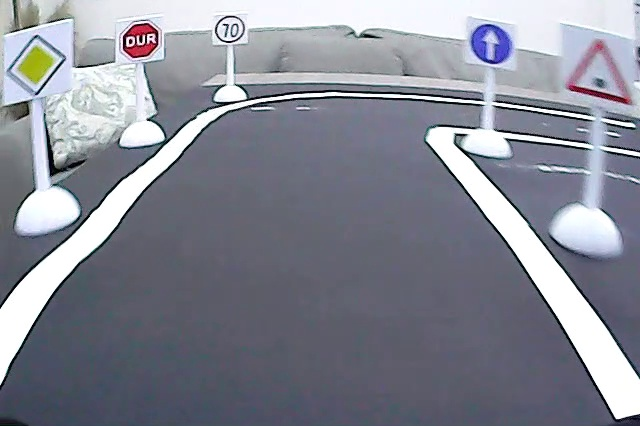green light: (562, 34, 638, 111)
speed limit 70: (214, 14, 248, 44)
stop sign: (120, 20, 163, 62)
